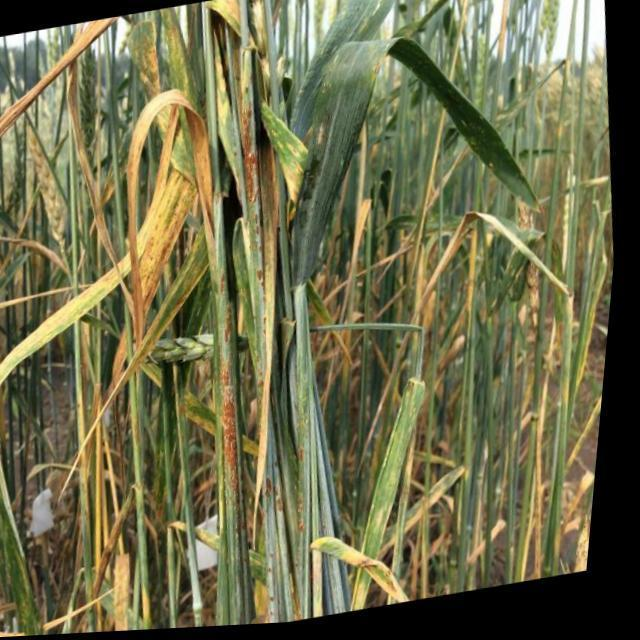Stem Rust: (132, 80, 273, 473)
